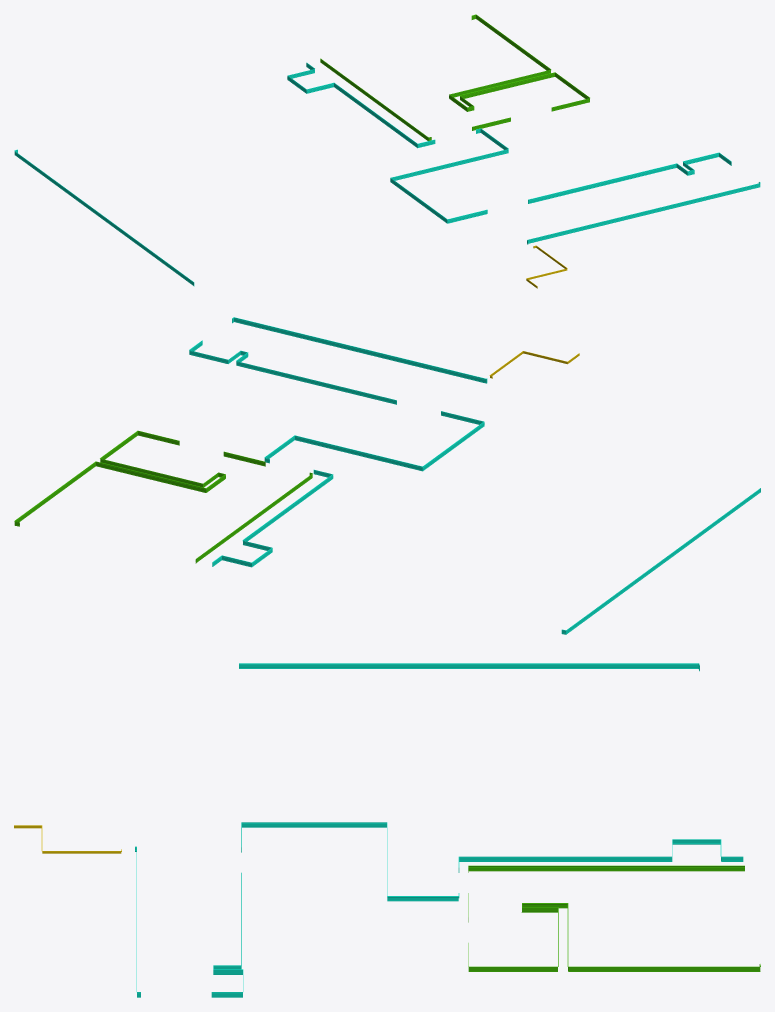
File: Skirting.FBX
3 views of the same model, one above another, from view 1: azimuth 30°, elevation 25°; view 2: azimuth 150°, elevation 25°; view 3: azimuth 270°, elevation 25° (orthographic). The views are drawn at different scales.
Parts seen in each view (by area): view 1: Skirting03, Skirting01, Skirting04; view 2: Skirting03, Skirting01, Skirting04; view 3: Skirting03, Skirting01, Skirting04.
Boxes of the visible parts, x1,y1,x2,y2 form: Skirting03: [14, 62, 508, 286]; Skirting01: [320, 14, 589, 140]; Skirting04: [527, 152, 760, 244]; Skirting03: [212, 411, 760, 634]; Skirting01: [14, 430, 312, 563]; Skirting04: [189, 317, 487, 404]; Skirting03: [239, 663, 743, 901]; Skirting01: [468, 865, 760, 971]; Skirting04: [135, 846, 243, 997].
Size of the model in its own units: 12.93 by 0.1 by 12.4.
